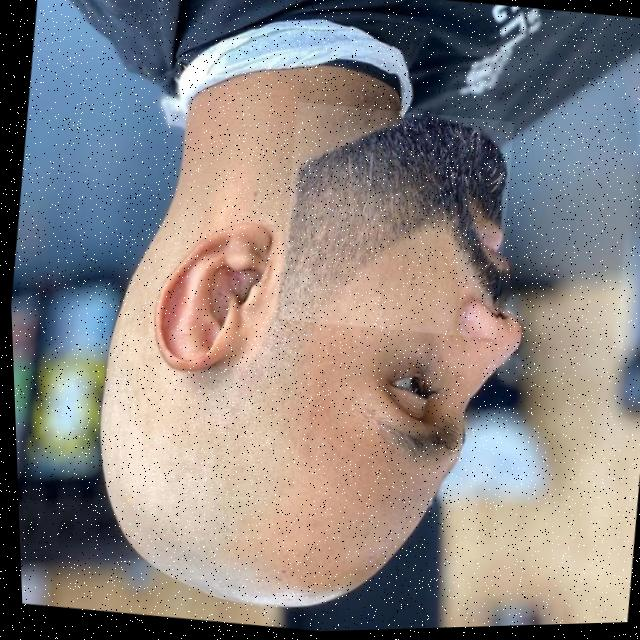beard: (277, 115, 508, 320)
